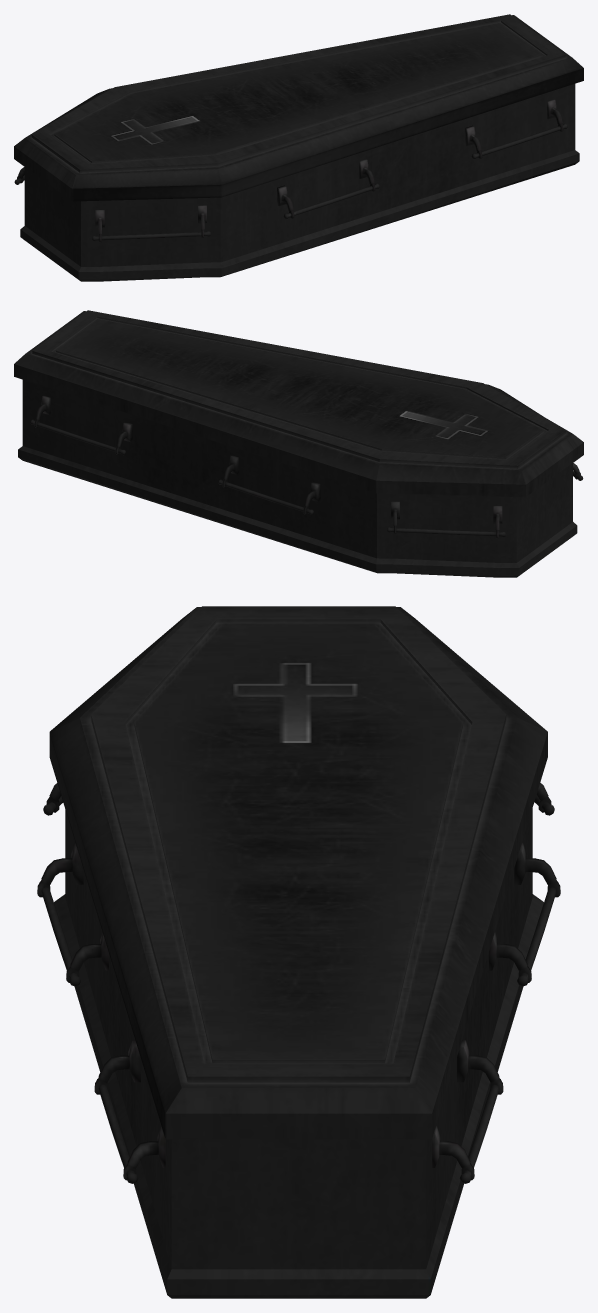
3 renders of one model, top to bottom at view 1: azimuth 30°, elevation 25°; view 2: azimuth 150°, elevation 25°; view 3: azimuth 270°, elevation 25°, orthographic. The views are drawn at different scales.
Visible parts, largest first — view 1: lid, coffin; view 2: lid, coffin; view 3: lid, coffin.
Part boxes in pixels (x1,y1,x2,y2): lid: (14, 14, 583, 201); coffin: (14, 84, 579, 281); lid: (14, 310, 583, 497); coffin: (18, 380, 583, 577); lid: (49, 606, 547, 1139); coffin: (37, 783, 560, 1298).
Bounding box in the file's own units: 0.0543 × 0.0111 × 0.0243.
3 materials, 3 textured.
